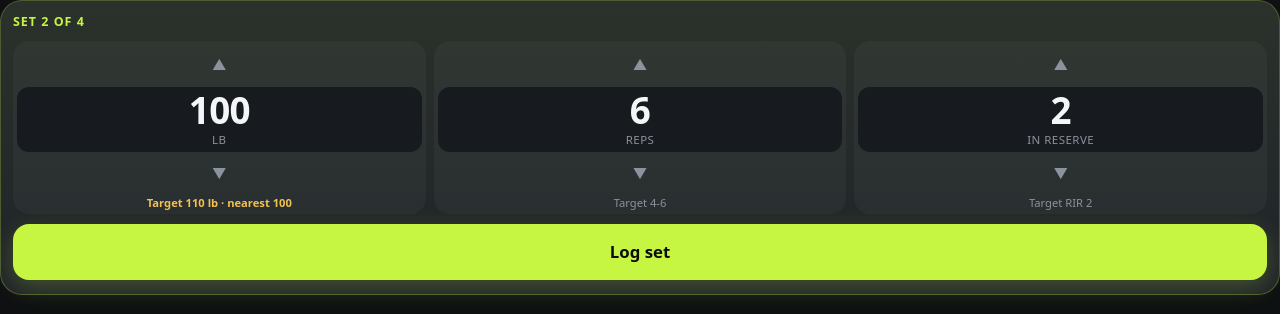
it: the dial and what the place can load › nudges through the real weights and names the nearest one when the target is not on the stack
Expected: the text with test id "weight-hint" reads "Target 110 lb · nearest 100", [147,195,292,210]
Click the button named "Increase weight" at (219, 65), box [17,45,422,85]
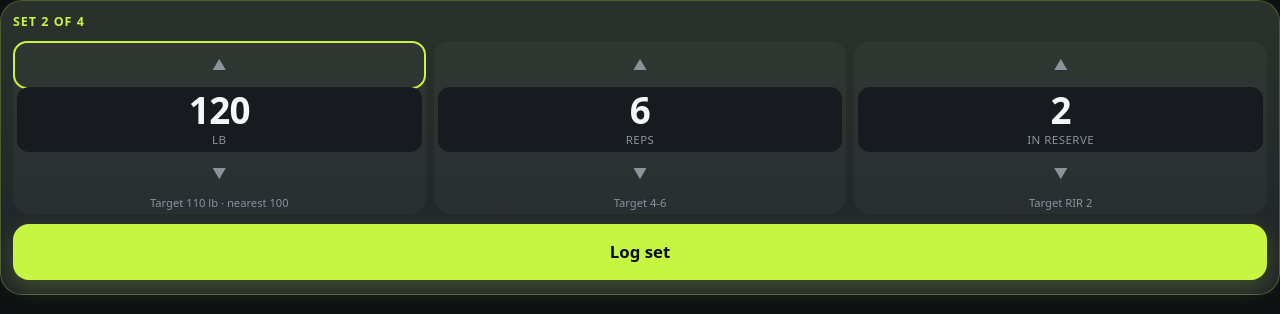
Expected: the button with test id "logger-weight" shows "120", [17,87,422,152]
Click the button named "Decrease weight" at (219, 174), box [17,154,422,194]
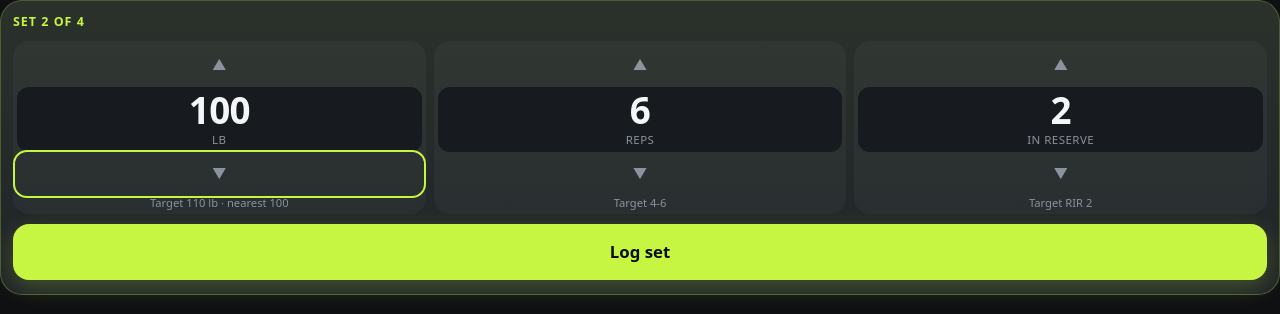
Click the button named "Decrease weight" at (219, 174), box [17,154,422,194]
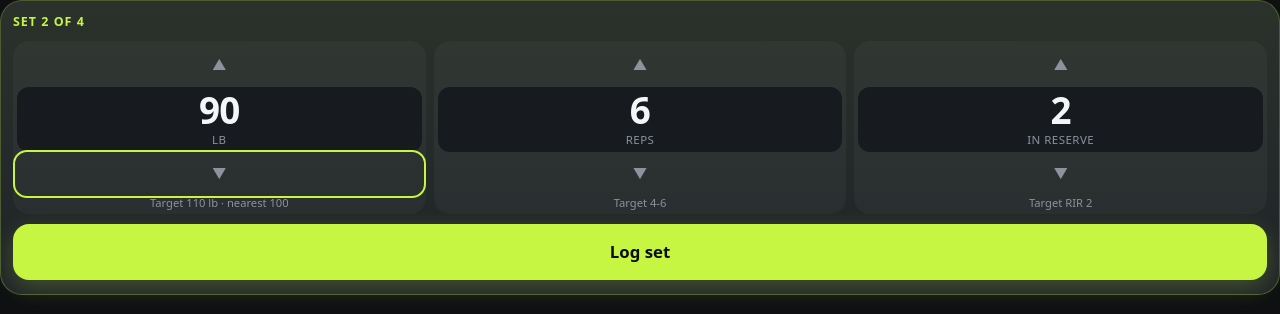
Expected: the button with test id "logger-weight" shows "90", [17,87,422,152]
